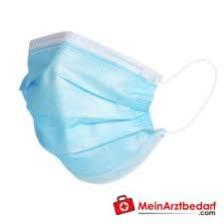mask: (18, 29, 200, 186)
